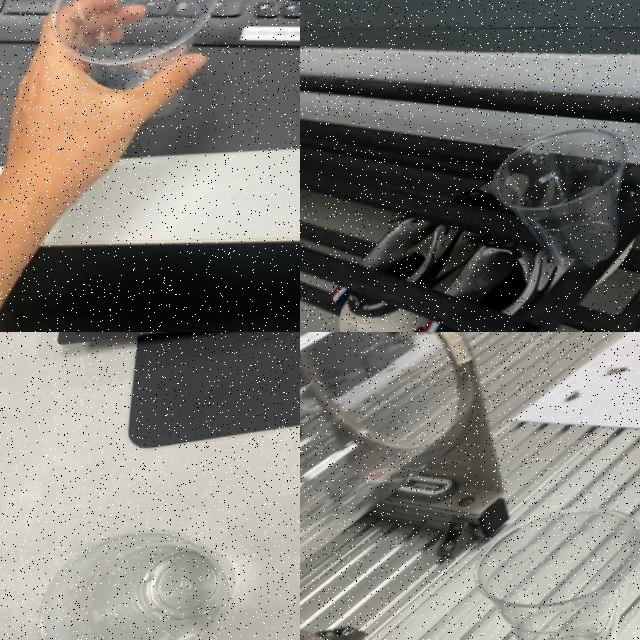glass: (21, 0, 257, 157), (0, 499, 261, 640), (468, 109, 640, 300), (450, 485, 640, 640)
